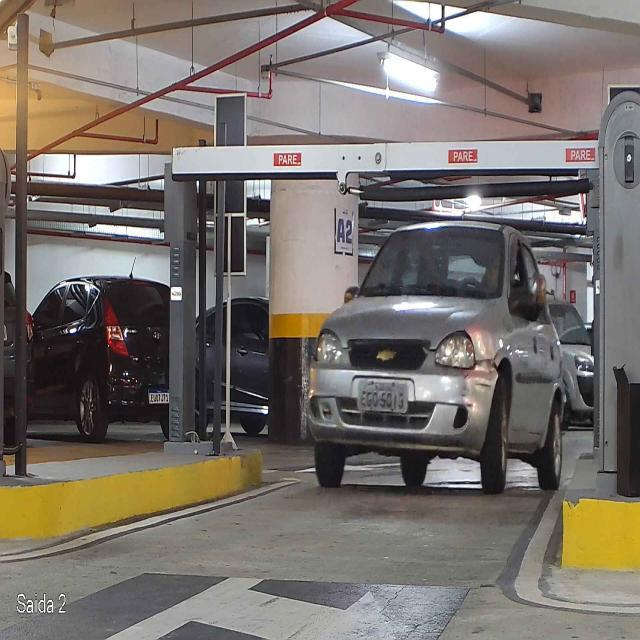old_plate: (356, 378, 410, 416)
